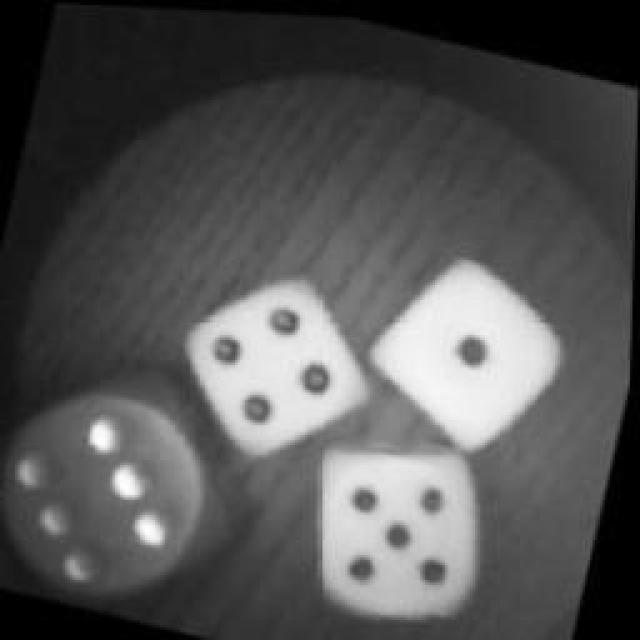dice_1: (346, 229, 599, 476)
dice_4: (166, 244, 392, 476)
dice_5: (284, 410, 524, 640)
dice_6: (0, 332, 272, 637)
